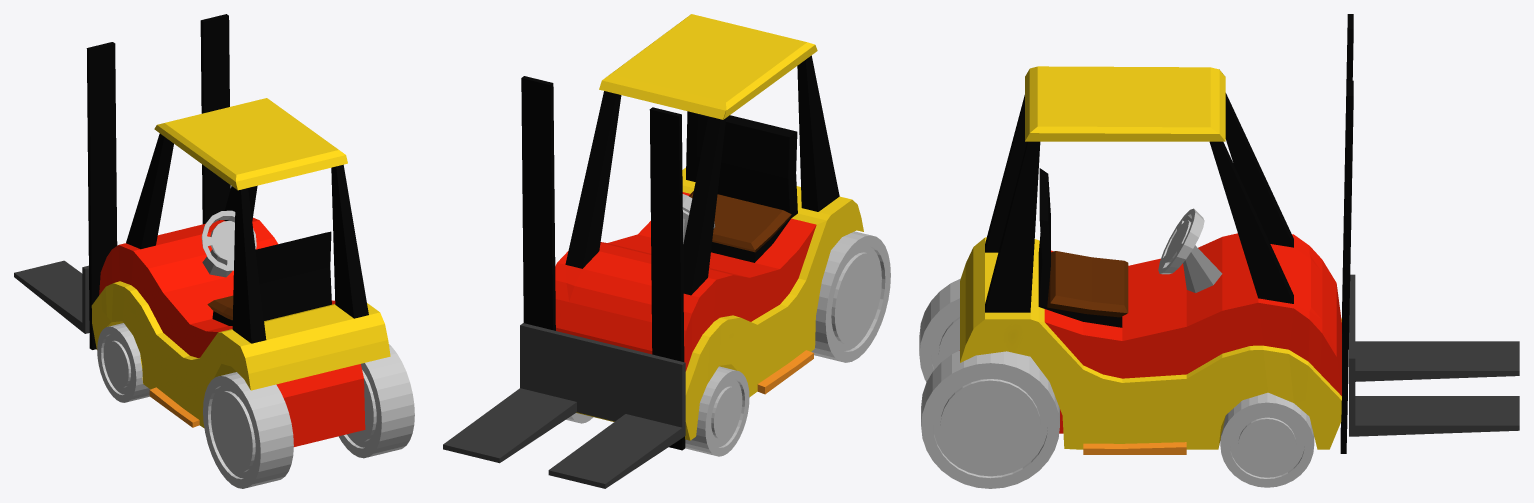
The model's file is Forklift_Wheel2.fbx.
The picture shows the model from 3 angles, left to right: view 1: azimuth 30°, elevation 25°; view 2: azimuth 150°, elevation 25°; view 3: azimuth 270°, elevation 25°; orthographic projection. The views are drawn at different scales.
Parts seen in each view (by area): view 1: ForkBody, Cylinder.001, Cylinder, ForkLifter, Cylinder.003, Cylinder.004; view 2: ForkBody, ForkLifter, Cylinder.001, Cylinder.003; view 3: ForkBody, Cylinder, ForkLifter, Cylinder.002, Cylinder.001, Cylinder.004.
Boxes of the visible parts, x1,y1,x2,y2 form: ForkBody: (86, 14, 390, 446); Cylinder.001: (203, 372, 293, 488); Cylinder: (338, 344, 414, 458); ForkLifter: (14, 260, 89, 333); Cylinder.003: (97, 323, 150, 402); Cylinder.004: (201, 210, 256, 270); ForkBody: (521, 14, 863, 450); ForkLifter: (443, 323, 685, 488); Cylinder.001: (811, 231, 890, 362); Cylinder.003: (685, 366, 749, 456); ForkBody: (959, 14, 1353, 454); Cylinder: (921, 350, 1059, 488); ForkLifter: (1349, 274, 1519, 436); Cylinder.002: (1220, 392, 1314, 487); Cylinder.001: (919, 278, 960, 381); Cylinder.004: (1158, 208, 1204, 274).
Bounding box in the file's own units: 299 × 597 × 835.
